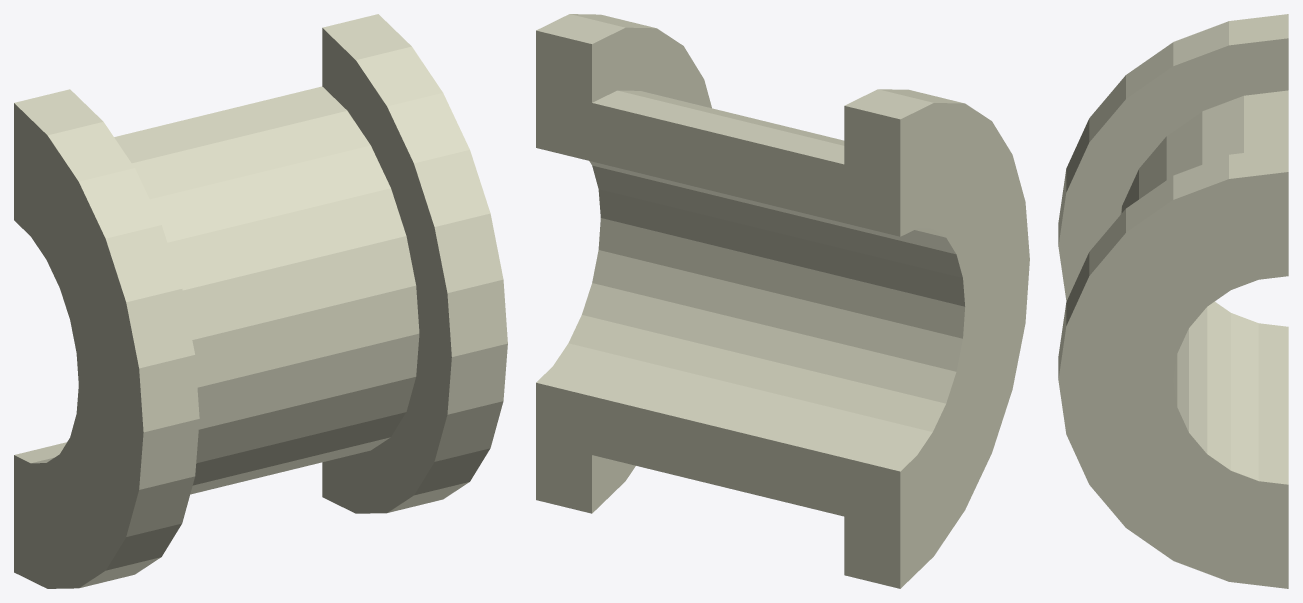
Rendered from section_011.obj.
The picture shows the model from 3 angles, left to right: view 1: azimuth 30°, elevation 25°; view 2: azimuth 150°, elevation 25°; view 3: azimuth 270°, elevation 25°; orthographic projection. The views are drawn at different scales.
Size of the model in its own units: 6.5 by 8 by 4.
